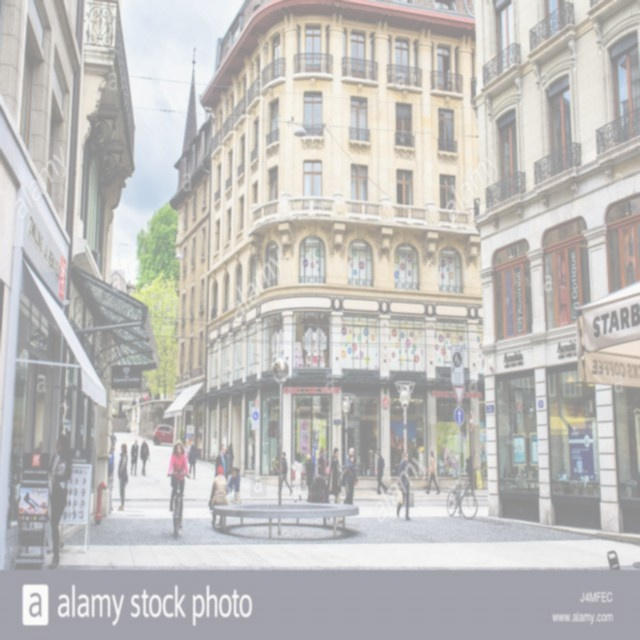pessoa: (46, 432, 74, 572), (166, 438, 191, 529), (214, 465, 242, 527), (326, 446, 346, 524), (209, 462, 229, 530), (6, 446, 22, 528), (396, 449, 410, 521), (116, 441, 129, 511), (309, 466, 331, 504), (344, 454, 360, 506), (276, 450, 294, 496), (424, 449, 441, 496), (437, 442, 459, 476), (246, 408, 257, 471), (290, 450, 303, 502), (214, 443, 230, 483), (107, 441, 116, 512), (304, 453, 316, 503), (375, 450, 388, 496), (139, 434, 150, 476), (390, 432, 414, 450), (464, 454, 474, 496), (308, 335, 320, 370), (188, 439, 198, 478), (376, 448, 384, 492), (130, 438, 139, 477), (301, 447, 311, 480), (31, 438, 42, 466), (316, 449, 326, 479), (140, 391, 160, 404), (228, 441, 235, 477), (224, 448, 231, 484), (109, 428, 118, 453), (344, 447, 355, 467), (124, 401, 130, 432), (196, 420, 203, 444), (480, 441, 486, 464), (318, 445, 328, 458), (117, 399, 123, 419), (291, 466, 296, 489), (253, 397, 260, 408), (131, 396, 137, 406), (190, 419, 194, 429)
